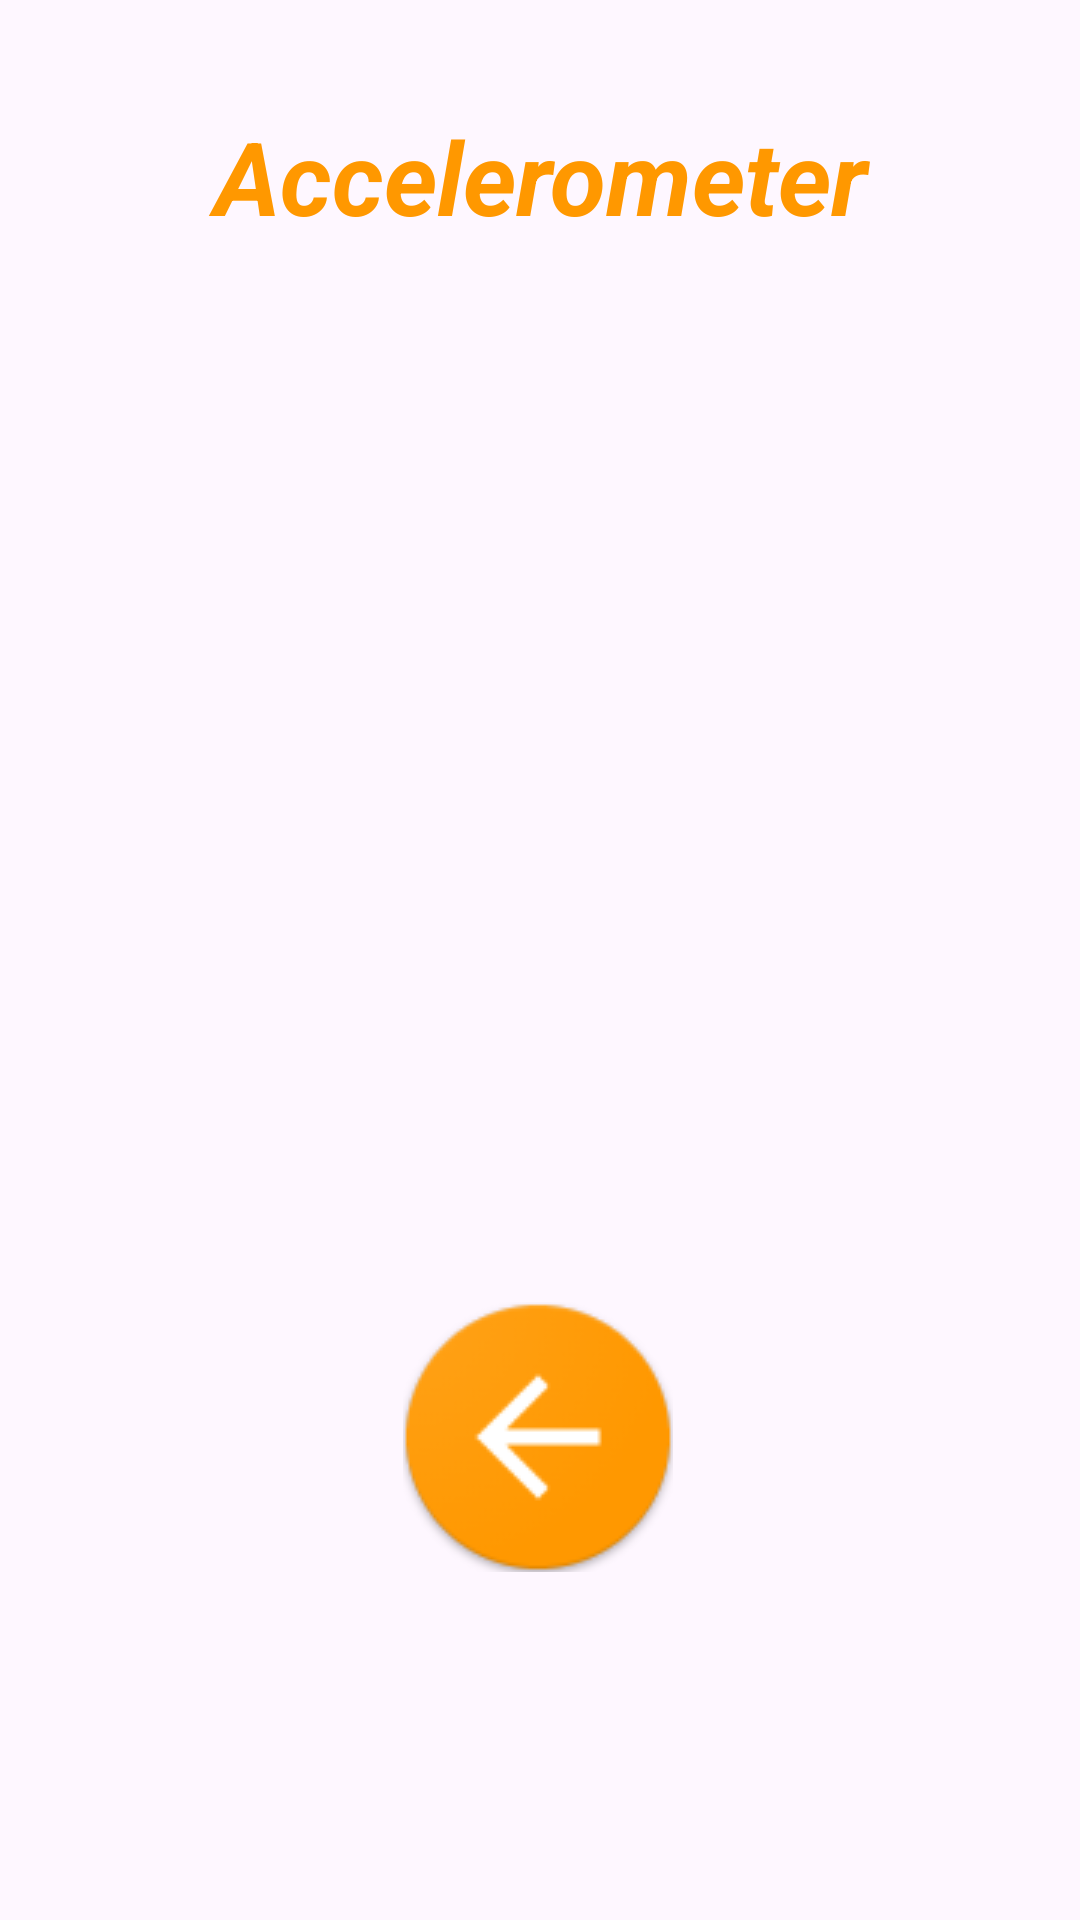

Where to tap for icons on this 1080*1920 app screen, as (x,y):
ret: (538,1438)
